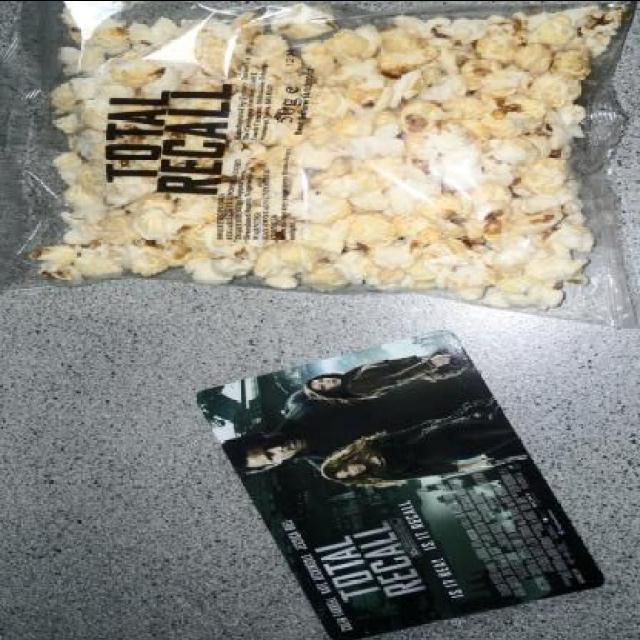Popcorn: (29, 2, 626, 314)
